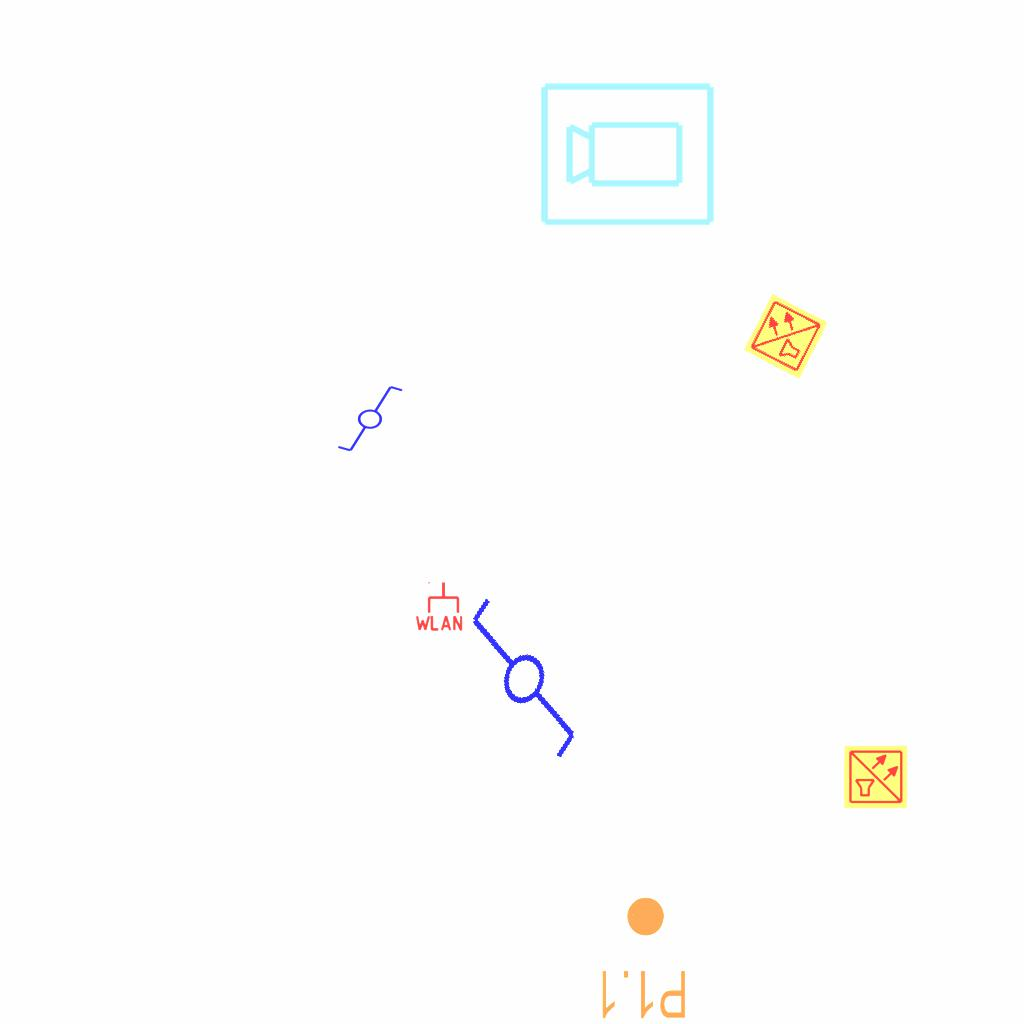Downlight_LED_Einbauleuchten_Flur: (596, 894, 689, 1022)
KFO_Kamera_mit_Festobjektiv: (537, 76, 719, 230)
OKW_Multisensormelder_(Kombination_optischer_Rauch-Kahlenmonoxid_Waerme-Melder): (741, 291, 831, 381), (843, 744, 909, 810)
WLAN: (413, 580, 465, 632)
Wechselschalter: (427, 589, 612, 783), (327, 382, 405, 454)
